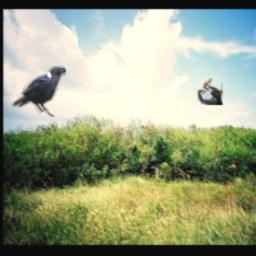Crow: (12, 67, 66, 118)
Woodpecker: (199, 79, 224, 106)
